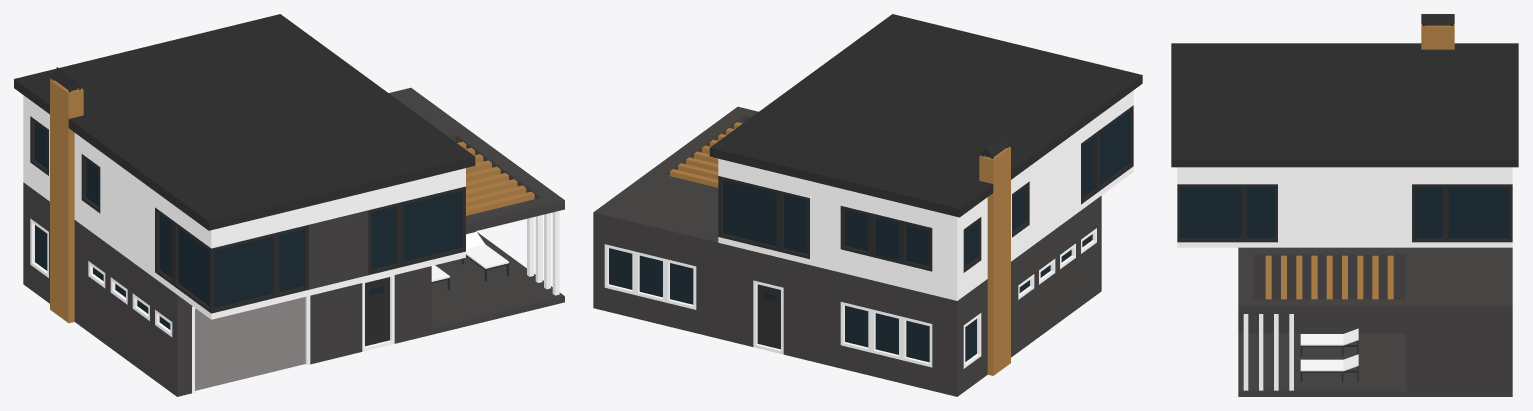
Rendered from building-house-modern.glb.
3 views of the same model, side by side, from view 1: azimuth 30°, elevation 25°; view 2: azimuth 150°, elevation 25°; view 3: azimuth 270°, elevation 25° (orthographic). The views are drawn at different scales.
Parts seen in each view (by area): view 1: building-house-modern; view 2: building-house-modern; view 3: building-house-modern.
Part boxes in pixels (x1=…): building-house-modern: x1=14, y1=14, x2=564, y2=396; building-house-modern: x1=593, y1=14, x2=1142, y2=396; building-house-modern: x1=1171, y1=14, x2=1518, y2=396.
Size of the model in its own units: 13.3 by 7.77 by 11.4.
Materials: 1 (1 with a texture image).
